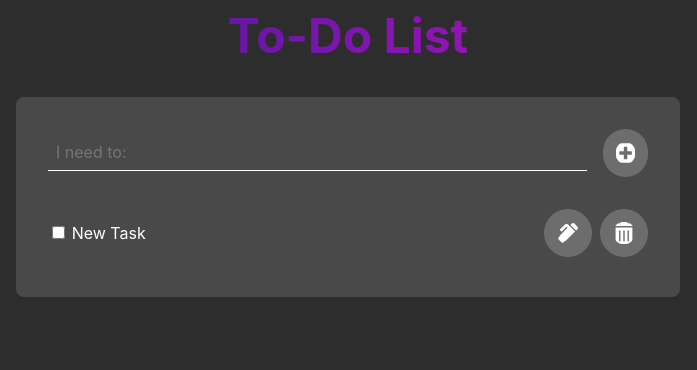
TodoPage › edits a task
Type "New Task" into the field. click: (317, 153)
box: [48,134,587,172]
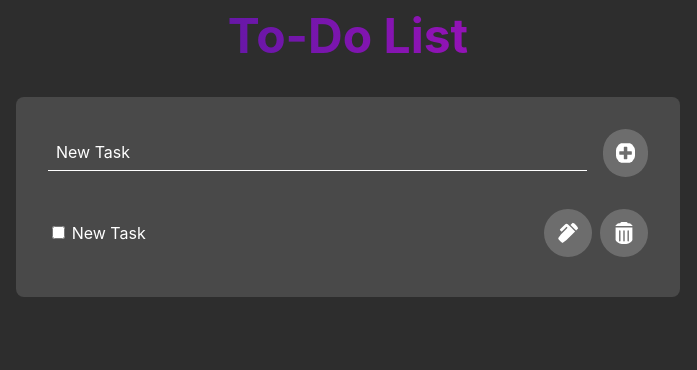
Click the icon named "Add Task". click: (625, 153)
box: [603,129,648,177]
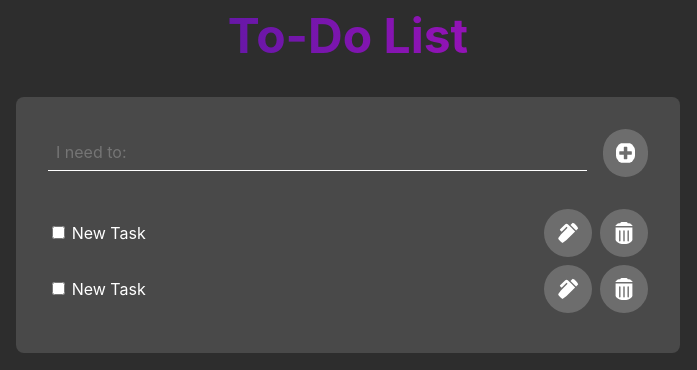
Click the icon named "edit-task-0". click: (568, 233)
box: [544,209,592,257]
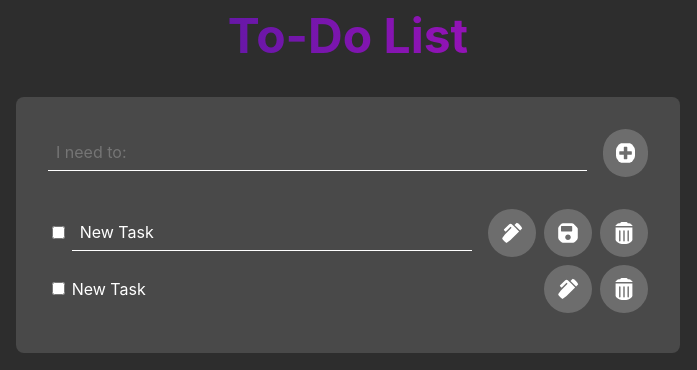
Replace the text in the field named "edit-task-0" with "Edited Task". click: (272, 233)
box: [72,214,472,252]
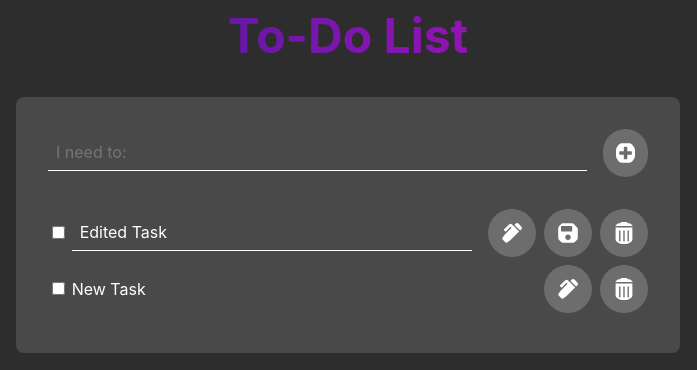
Click the icon named "save-task-0". click: (568, 233)
box: [544,209,592,257]
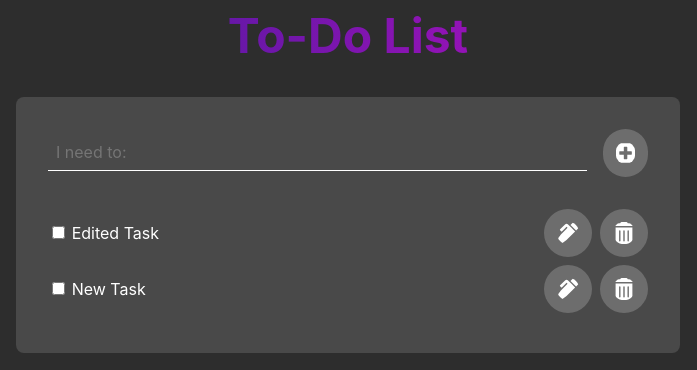
Result: the text "Edited Task" is shown at [72,223,159,243]
